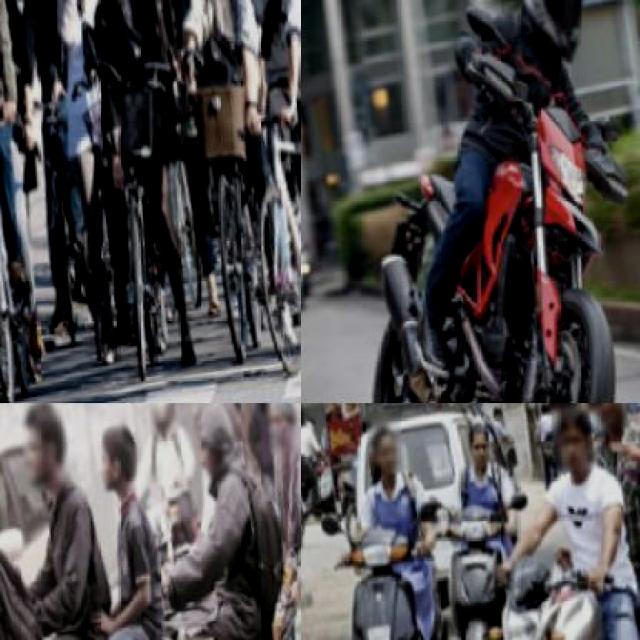With Helmet: (502, 0, 622, 71), (143, 403, 185, 434)
Without Helmet: (174, 403, 254, 492), (10, 403, 84, 492), (546, 403, 605, 471), (361, 403, 414, 475), (94, 418, 144, 493), (462, 403, 503, 466), (258, 403, 298, 452), (580, 403, 637, 431)
